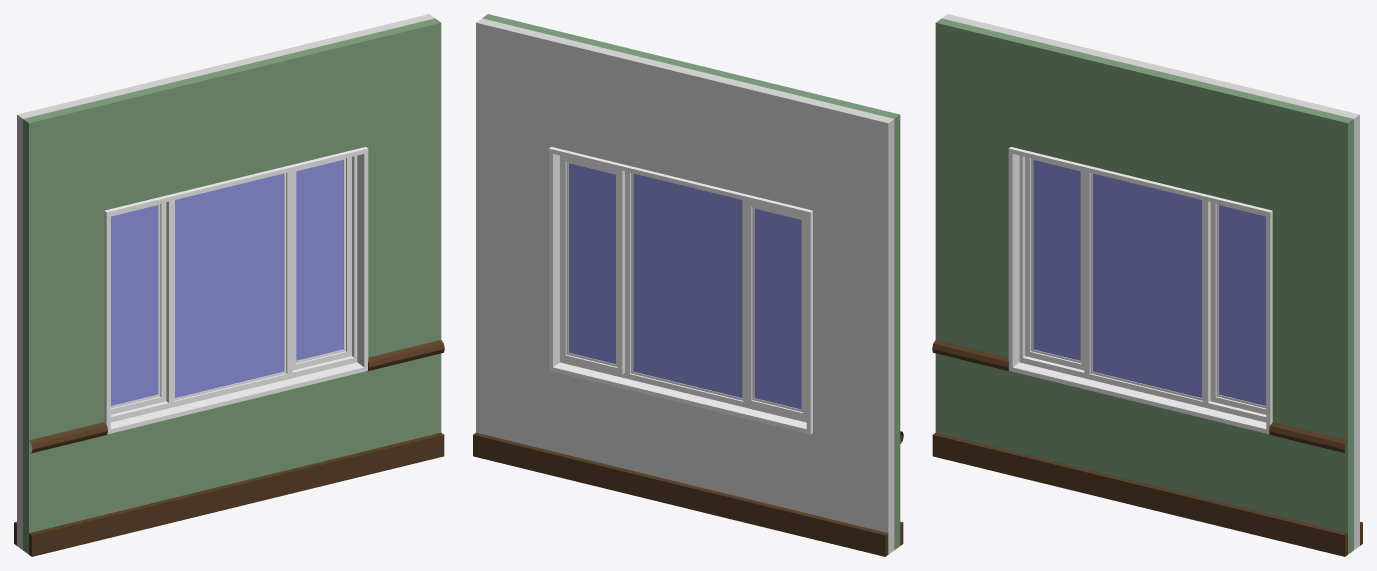
File: h_wall_3_window_1_4.fbx
The picture shows the model from 3 angles, left to right: view 1: azimuth 30°, elevation 25°; view 2: azimuth 150°, elevation 25°; view 3: azimuth 330°, elevation 25°; orthographic projection.
Parts seen in each view (by area): view 1: Cube, Window; view 2: Cube, Window; view 3: Cube, Window.
Boxes of the visible parts, box(x1,y1,x2,y2) form: Cube: box(14, 14, 444, 556); Window: box(104, 147, 368, 434); Cube: box(473, 14, 903, 556); Window: box(549, 147, 812, 434); Cube: box(932, 14, 1362, 556); Window: box(1008, 147, 1272, 434).
Size of the model in its own units: 400 by 400 by 31.
